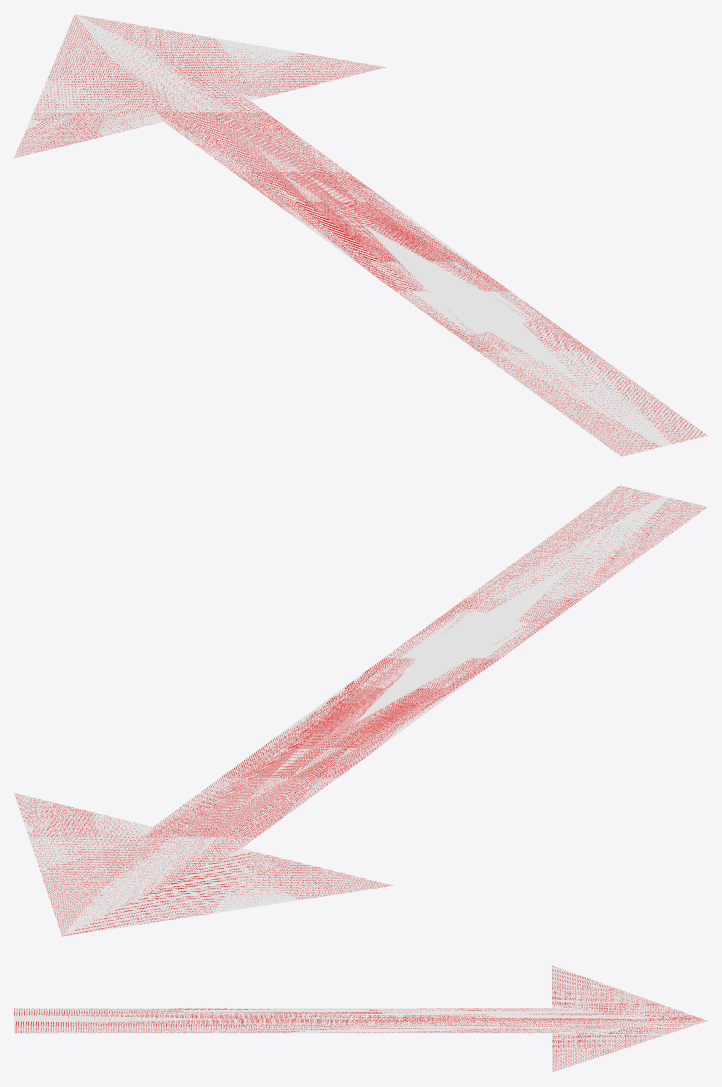
File: redarrow.dae
3 renders of one model, top to bottom at view 1: azimuth 30°, elevation 25°; view 2: azimuth 150°, elevation 25°; view 3: azimuth 270°, elevation 25°, orthographic. The views are drawn at different scales.
Parts seen in each view (by area): view 1: SketchUp; view 2: SketchUp; view 3: SketchUp.
Boxes of the visible parts, box(x1,y1,x2,y2) form: SketchUp: box(14, 14, 707, 456); SketchUp: box(14, 485, 707, 936); SketchUp: box(14, 965, 707, 1072).
Size of the model in its own units: 168 by 462 by 0.
